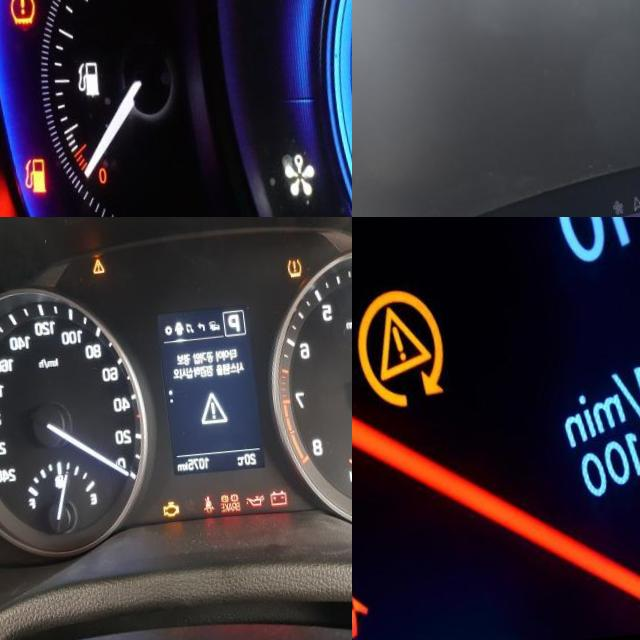Central Warning lamp: (88, 262, 101, 279)
Low fuel level: (12, 161, 37, 200)
